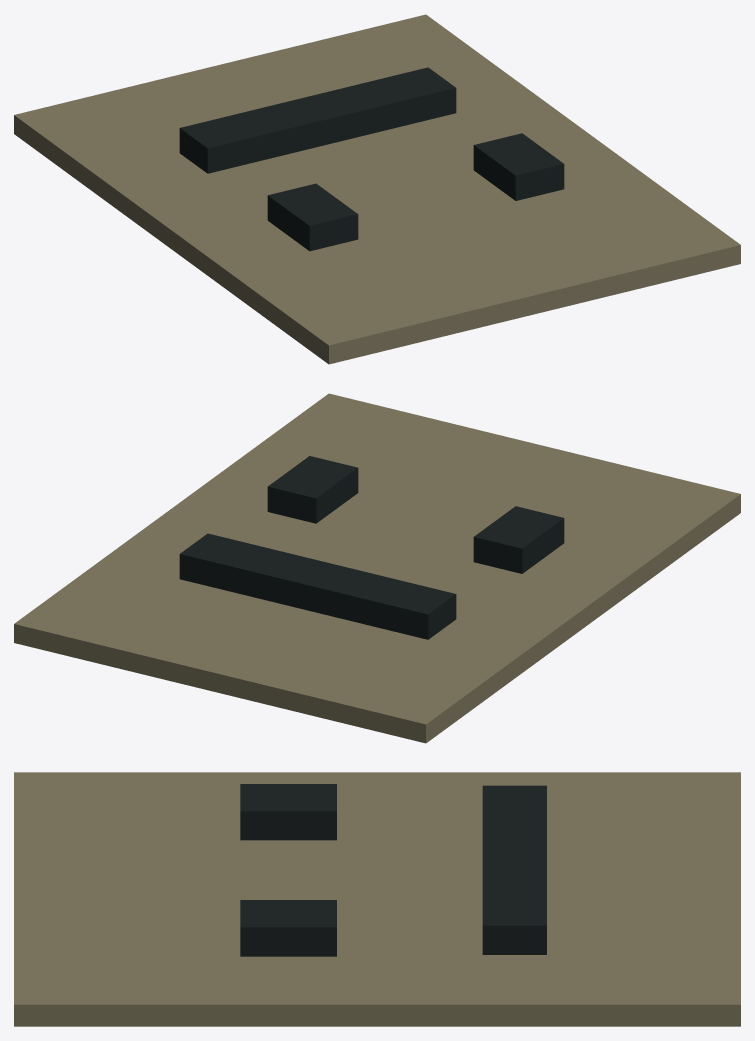
Rendered from accent_stencil.glb.
3 renders of one model, top to bottom at view 1: azimuth 30°, elevation 25°; view 2: azimuth 150°, elevation 25°; view 3: azimuth 270°, elevation 25°, orthographic. The views are drawn at different scales.
Parts seen in each view (by area): view 1: stencil plate, stencil main mark, stencil number left, stencil number right; view 2: stencil plate, stencil main mark, stencil number left, stencil number right; view 3: stencil plate, stencil main mark, stencil number left, stencil number right.
Boxes of the visible parts, left/top/right/bottom form: stencil plate: left=14, top=14, right=740, bottom=364; stencil main mark: left=179, top=67, right=456, bottom=173; stencil number left: left=267, top=183, right=358, bottom=251; stencil number right: left=473, top=133, right=564, bottom=200; stencil plate: left=14, top=393, right=740, bottom=743; stencil main mark: left=179, top=533, right=456, bottom=639; stencil number left: left=473, top=506, right=564, bottom=573; stencil number right: left=267, top=456, right=358, bottom=523; stencil plate: left=14, top=772, right=740, bottom=1026; stencil main mark: left=482, top=785, right=546, bottom=954; stencil number left: left=240, top=784, right=336, bottom=840; stencil number right: left=240, top=900, right=336, bottom=956.
Bounding box in the file's own units: 0.068 × 0.0075 × 0.09.
